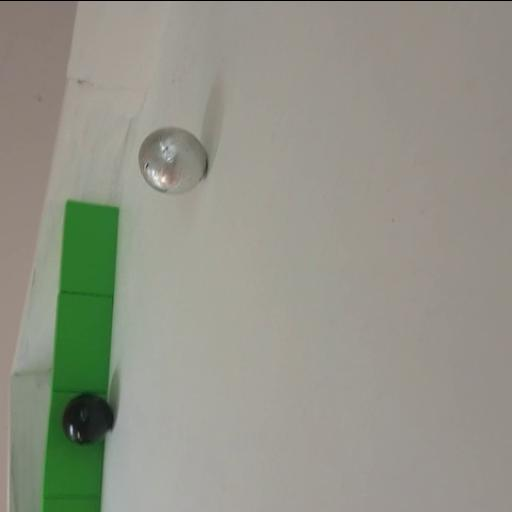alive: (138, 128, 206, 194)
dead: (62, 392, 114, 444)
